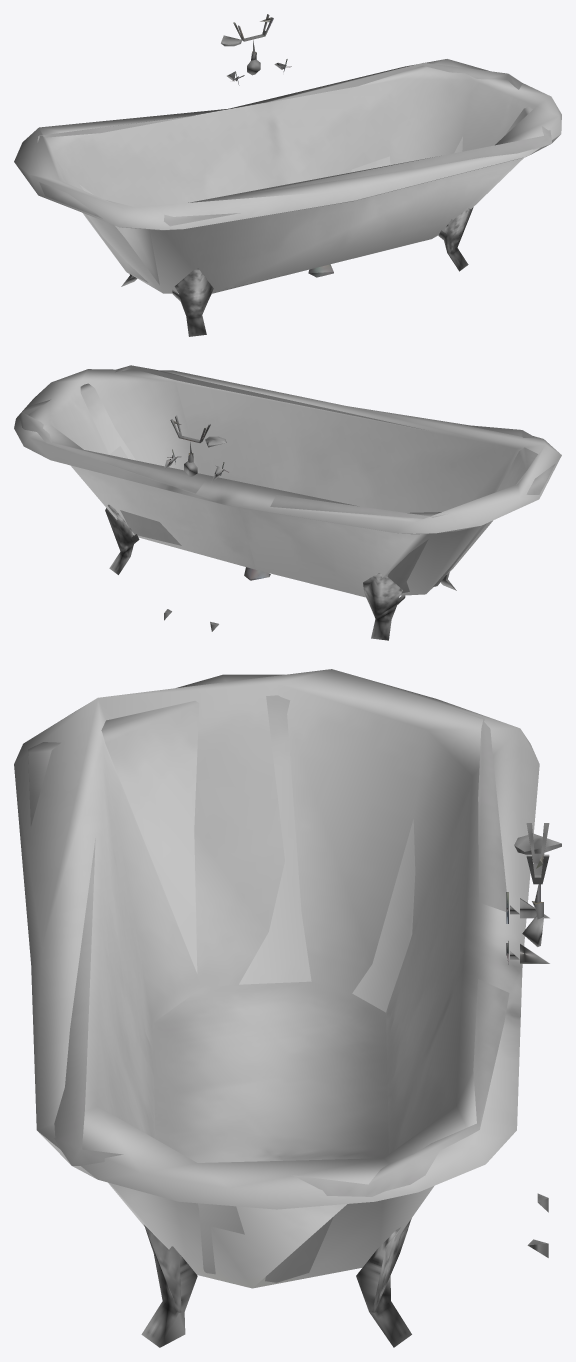
File: bathtub.lod1.glb
The picture shows the model from 3 angles, top to bottom: view 1: azimuth 30°, elevation 25°; view 2: azimuth 150°, elevation 25°; view 3: azimuth 270°, elevation 25°; orthographic projection. The views are drawn at different scales.
Visible parts, largest first — view 1: SM_Bathtub_Material #3_0; view 2: SM_Bathtub_Material #3_0; view 3: SM_Bathtub_Material #3_0.
Boxes of the visible parts, x1,y1,x2,y2 form: SM_Bathtub_Material #3_0: [14, 14, 561, 336]; SM_Bathtub_Material #3_0: [14, 365, 561, 640]; SM_Bathtub_Material #3_0: [14, 669, 561, 1347].
Size of the model in its own units: 1.7 by 0.6513 by 0.8154.
Materials: 1 (1 with a texture image).
